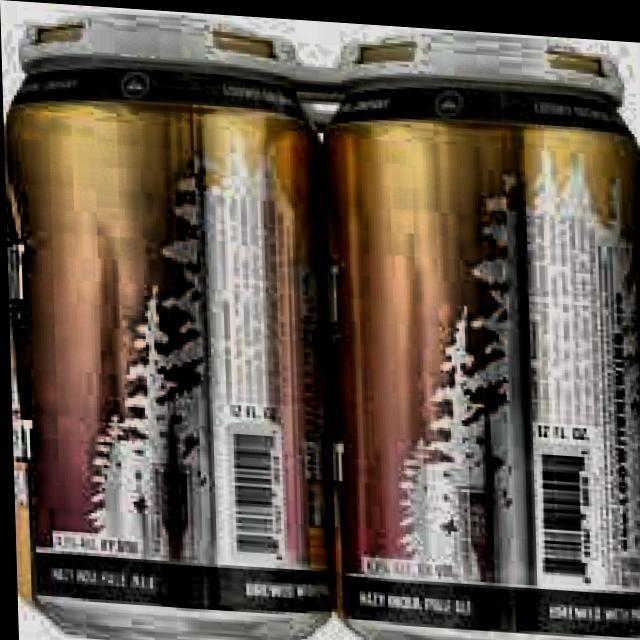litter: (0, 0, 332, 640), (316, 17, 640, 640)
